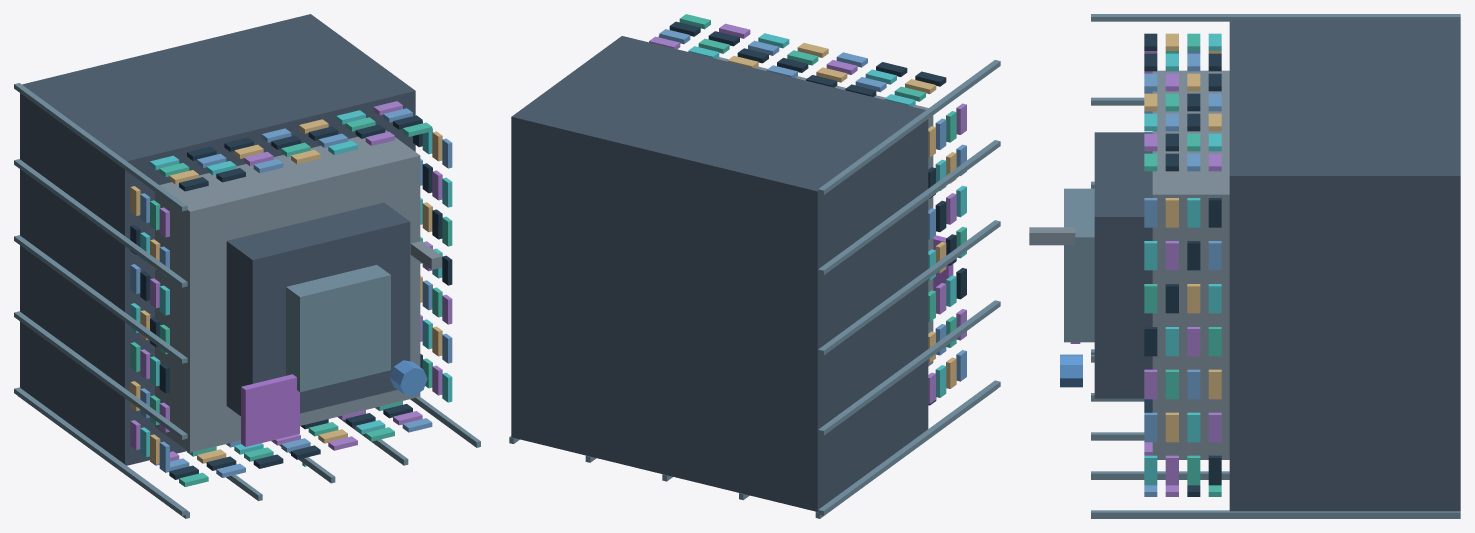
The model's file is stepped.glb.
The picture shows the model from 3 angles, left to right: view 1: azimuth 30°, elevation 25°; view 2: azimuth 150°, elevation 25°; view 3: azimuth 270°, elevation 25°; orthographic projection. The views are drawn at different scales.
Parts seen in each view (by area): view 1: geometry_0; view 2: geometry_0; view 3: geometry_0.
Part boxes in pixels (x1,y1,x2,y2): geometry_0: (14, 14, 480, 518); geometry_0: (509, 14, 1000, 518); geometry_0: (1029, 14, 1460, 518).
Size of the model in its own units: 0.986 by 0.996 by 1.12.
